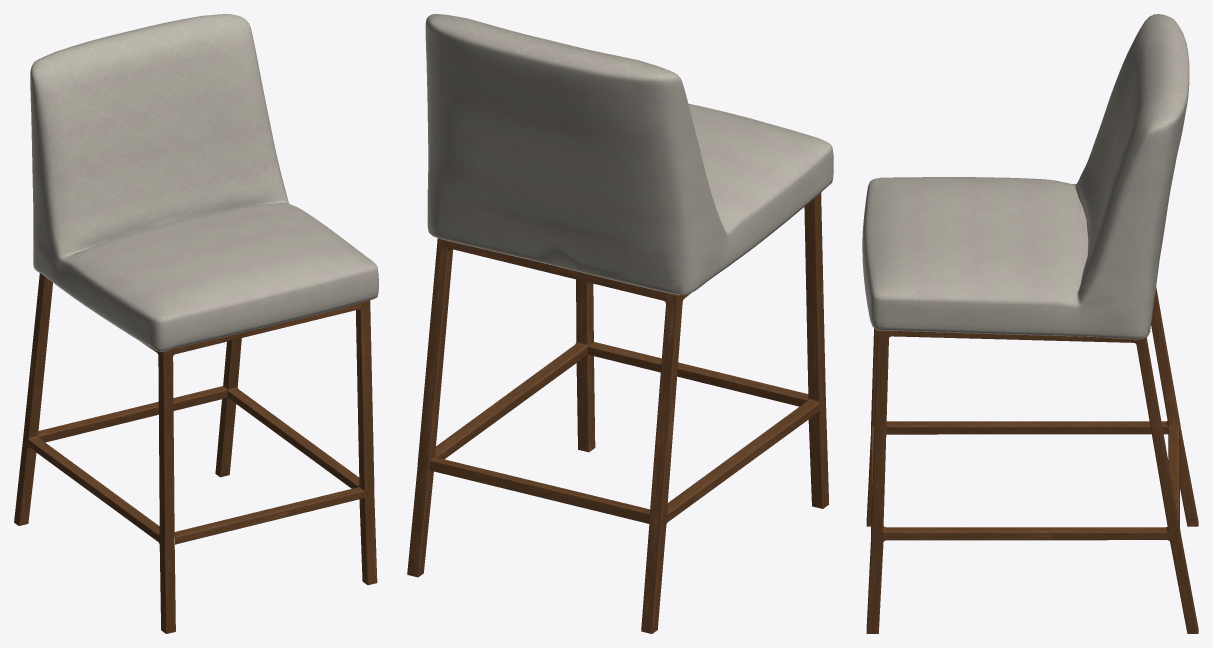
Rendered from bar_stool_abo_B07HSDPS35.glb.
3 views of the same model, side by side, from view 1: azimuth 30°, elevation 25°; view 2: azimuth 150°, elevation 25°; view 3: azimuth 270°, elevation 25° (orthographic). The views are drawn at different scales.
Visible parts, largest first — view 1: RootNode; view 2: RootNode; view 3: RootNode.
Part boxes in pixels (x1,y1,x2,y2): RootNode: (14, 14, 378, 633); RootNode: (407, 14, 833, 633); RootNode: (862, 14, 1198, 633).
Bounding box in the file's own units: 0.5067 × 0.9726 × 0.5759.
Materials: 1 (1 with a texture image).
